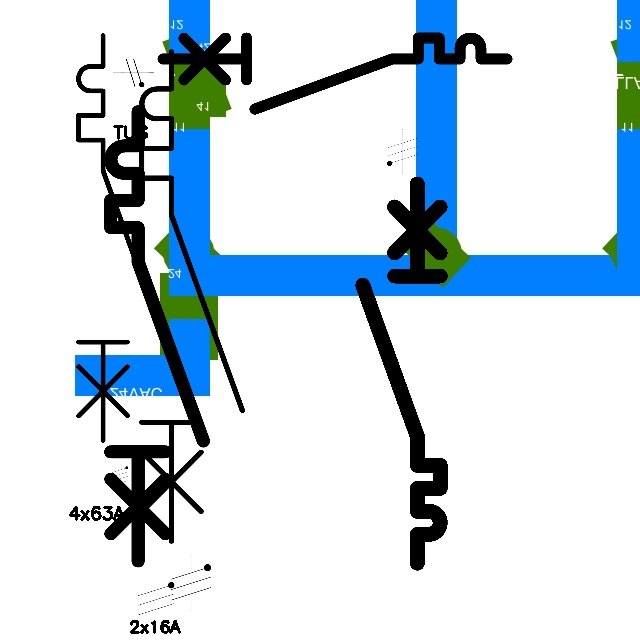interruptor_termomagnetico: (129, 39, 255, 554), (99, 100, 214, 572), (68, 25, 172, 451), (353, 174, 450, 573), (154, 29, 516, 117)
